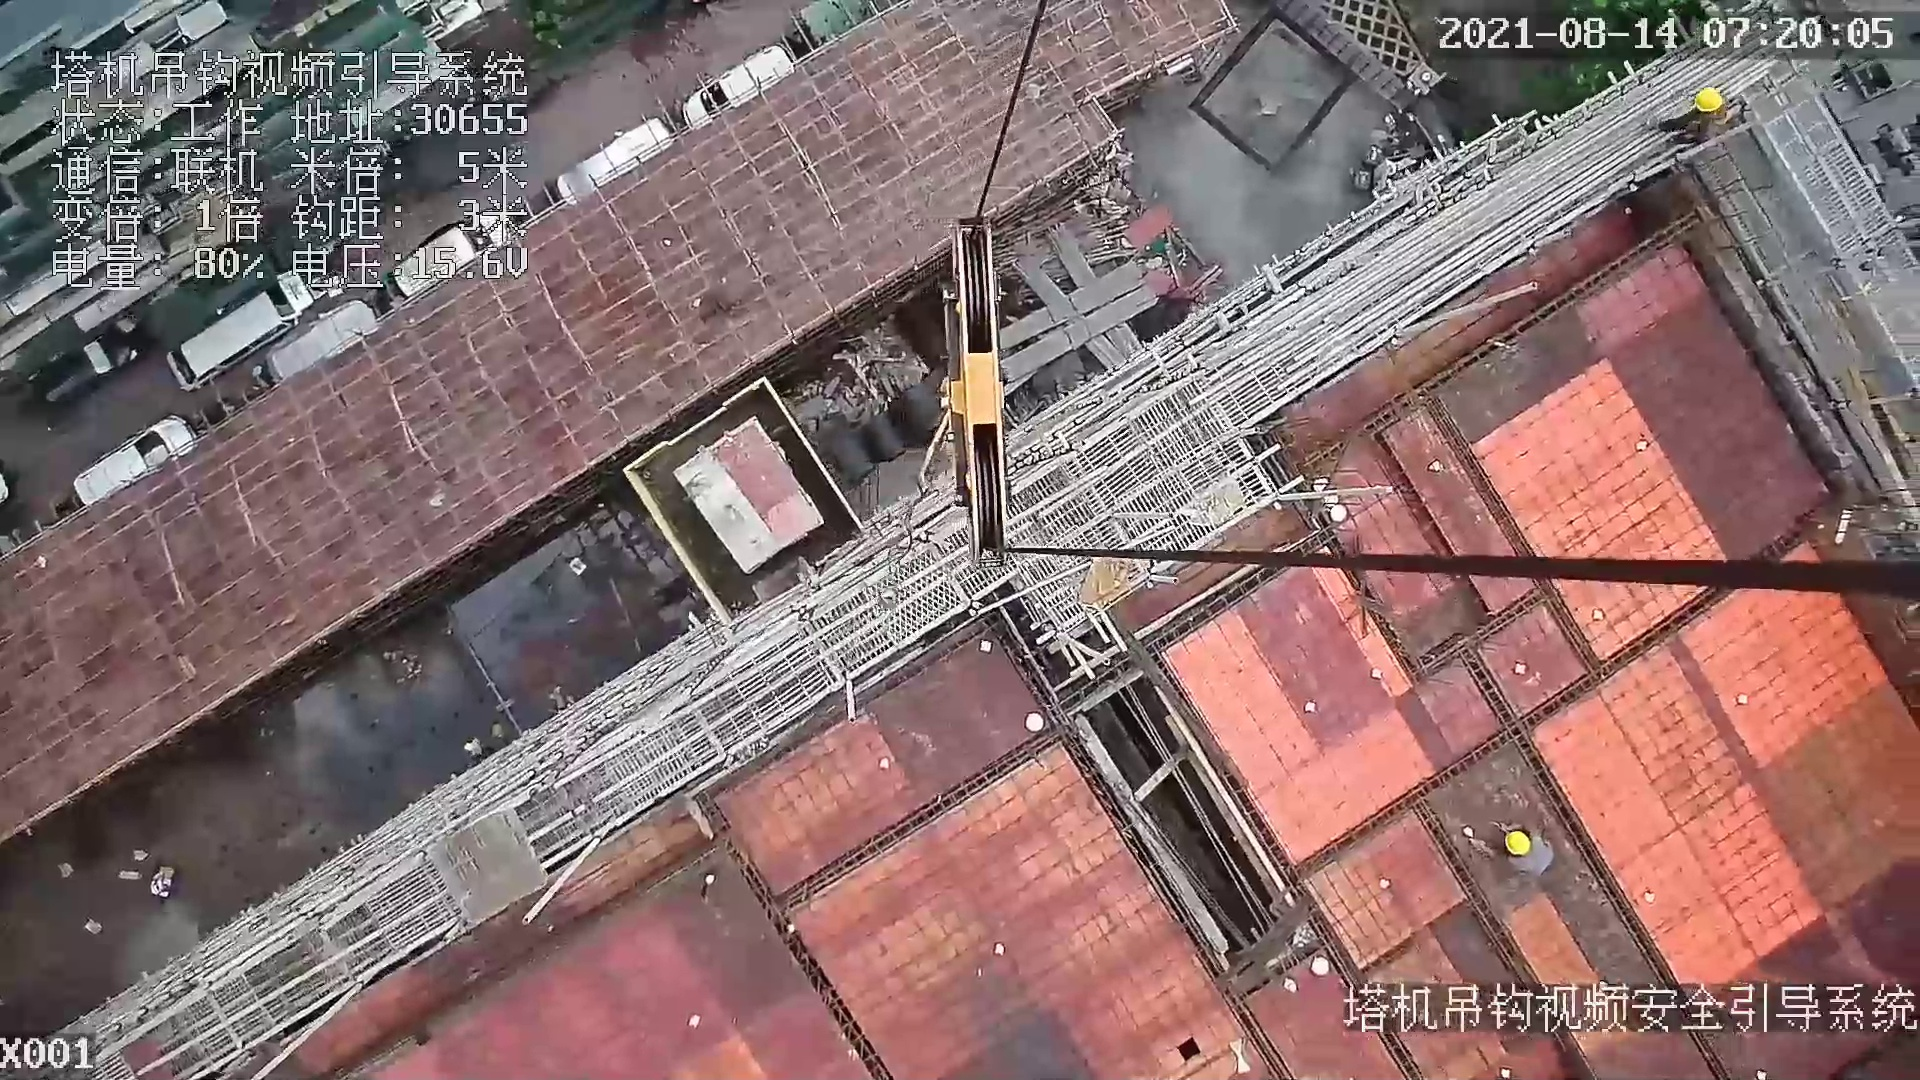helmet: (1500, 828, 1536, 859)
hook: (927, 206, 1026, 565)
person: (1658, 81, 1738, 141), (1472, 818, 1546, 872)
